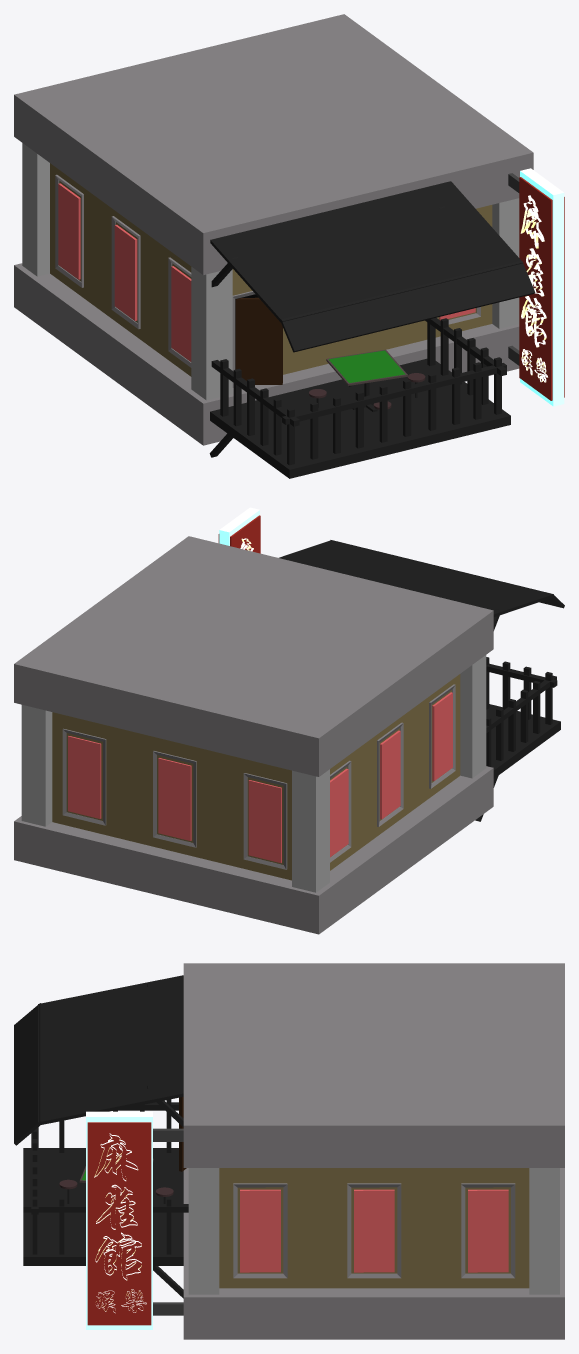
File: apartment-9.glb
The picture shows the model from 3 angles, top to bottom: view 1: azimuth 30°, elevation 25°; view 2: azimuth 150°, elevation 25°; view 3: azimuth 270°, elevation 25°; orthographic projection. The views are drawn at different scales.
Visible parts, largest first — view 1: Cube.014, Cube.024, Cube.013, Cube.023, Cube.002, Cube.006, Cube.004, Cube.016, Cube.050, Cube.005, Cube.017, Cube.010 (+8 smaller); view 2: Cube.014, Cube.002, Cube.013, Cube.024, Cube.017, Cube.001, Cube.018, Cube, Cube.003, Cube.016, Cube.010, Cube.011 (+6 smaller); view 3: Cube.014, Cube.002, Cube.013, Cube.024, Cube.004, Cube.023, Cube.007, Cube.008, Cube.009, Cube.015, Cube.018, Cube.006 (+3 smaller).
Boxes of the visible parts, box(x1,y1,x2,y2) form: Cube.014: box(14, 14, 533, 274); Cube.024: box(210, 181, 523, 323); Cube.013: box(14, 263, 519, 445); Cube.023: box(210, 358, 510, 478); Cube.002: box(50, 163, 492, 376); Cube.006: box(280, 261, 535, 352); Cube.004: box(519, 177, 564, 400); Cube.016: box(191, 267, 232, 400); Cube.050: box(232, 291, 282, 387); Cube.005: box(520, 168, 564, 406); Cube.017: box(22, 143, 49, 276); Cube.010: box(111, 216, 140, 329); Cube.014: box(14, 536, 493, 776); Cube.002: box(52, 674, 460, 880); Cube.013: box(14, 766, 493, 934); Cube.024: box(279, 540, 553, 617); Cube.017: box(292, 769, 329, 892); Cube.001: box(243, 773, 287, 869); Cube.018: box(21, 705, 52, 826); Cube: box(62, 728, 106, 825); Cube.003: box(153, 751, 196, 847); Cube.016: box(460, 655, 486, 778); Cube.010: box(377, 722, 403, 826); Cube.011: box(429, 684, 455, 788); Cube.014: box(183, 963, 564, 1167); Cube.002: box(219, 1168, 529, 1288); Cube.013: box(183, 1168, 564, 1339); Cube.024: box(38, 975, 183, 1125); Cube.004: box(87, 1122, 151, 1325); Cube.023: box(23, 1148, 183, 1265); Cube.007: box(233, 1183, 287, 1278); Cube.008: box(461, 1183, 515, 1278); Cube.009: box(347, 1183, 401, 1278); Cube.015: box(188, 1168, 219, 1294); Cube.018: box(529, 1168, 559, 1294); Cube.006: box(14, 1003, 40, 1145).
Size of the model in its own units: 13.28 by 8.81 by 19.04.
